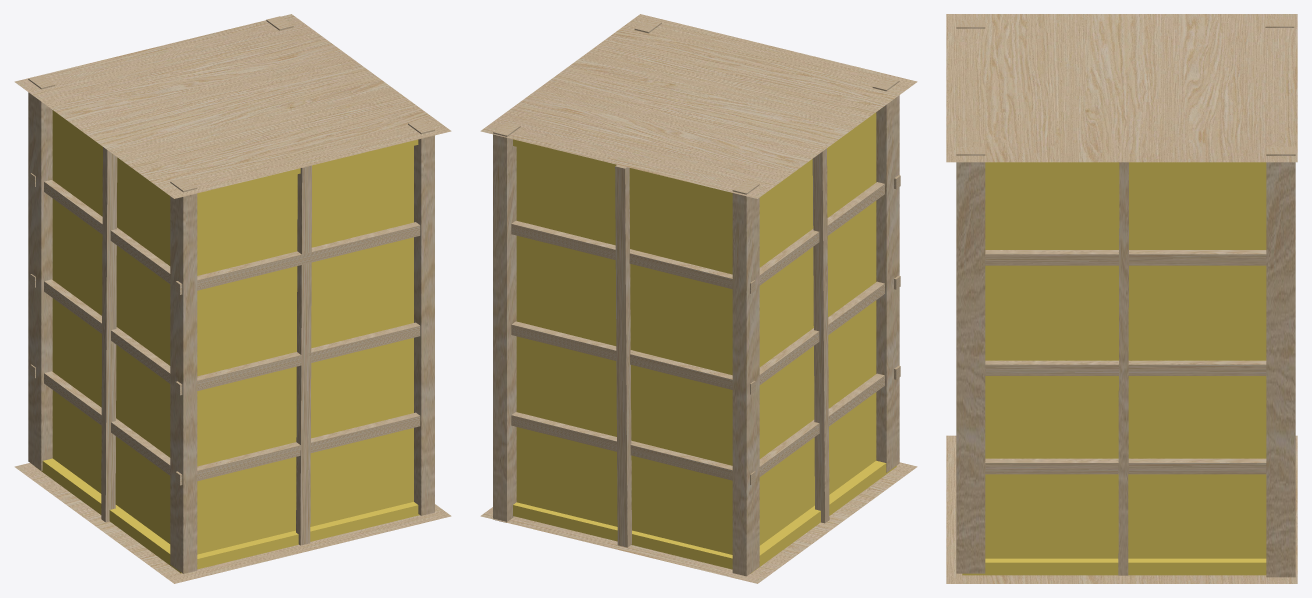
File: Lamp.fbx
3 renders of one model, left to right at view 1: azimuth 30°, elevation 25°; view 2: azimuth 150°, elevation 25°; view 3: azimuth 270°, elevation 25°, orthographic. The views are drawn at different scales.
Visible parts, largest first — view 1: LAMP; view 2: LAMP; view 3: LAMP.
Boxes of the visible parts, x1,y1,x2,y2 form: LAMP: (14, 14, 451, 583); LAMP: (480, 14, 917, 583); LAMP: (946, 14, 1297, 583).
Size of the model in its own units: 32.39 by 43.2 by 32.39.
